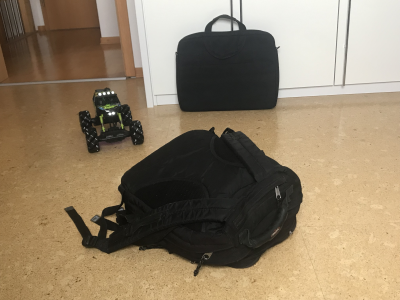remote control car: (76, 84, 146, 153)
